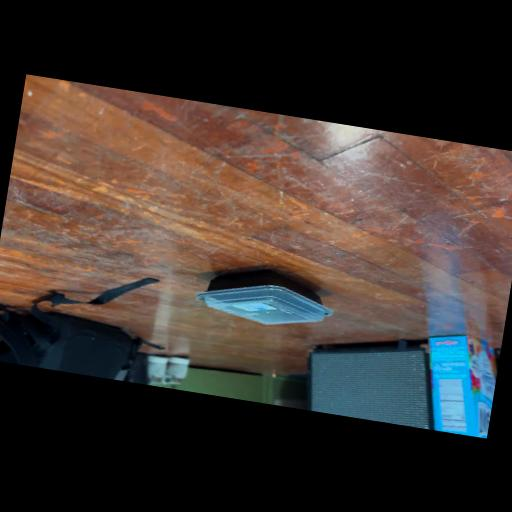rigid_plastic_container: (176, 254, 342, 350)
